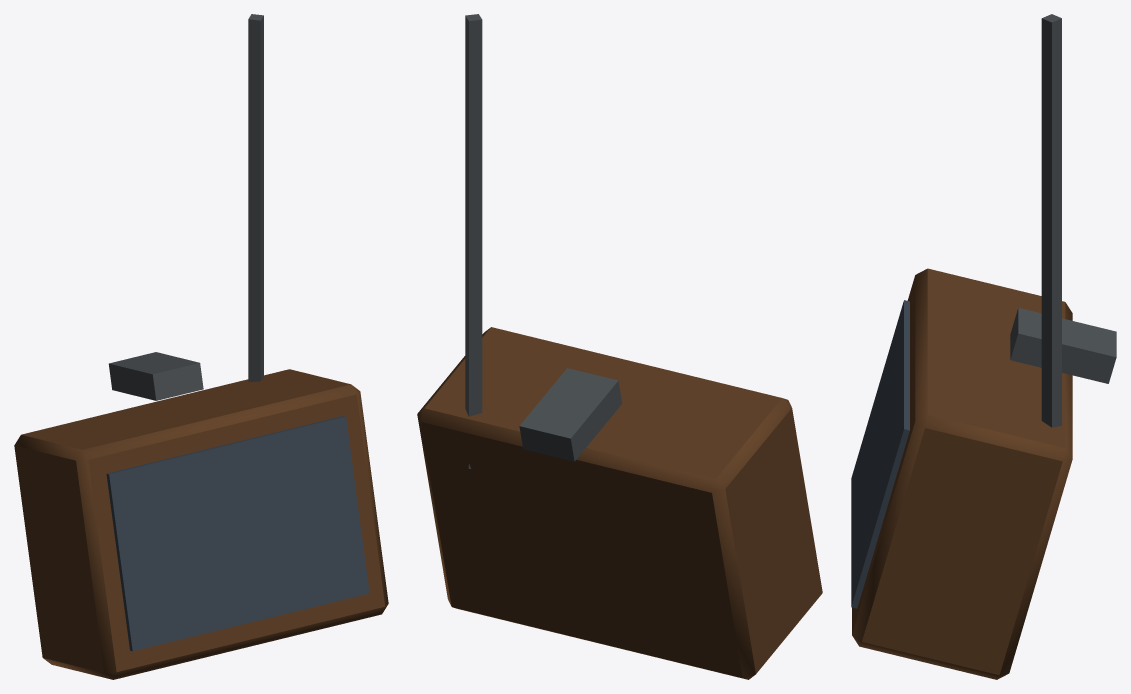
File: wall_speaker.glb
3 renders of one model, left to right at view 1: azimuth 30°, elevation 25°; view 2: azimuth 150°, elevation 25°; view 3: azimuth 270°, elevation 25°, orthographic. The views are drawn at different scales.
Parts seen in each view (by area): view 1: Speaker; view 2: Speaker; view 3: Speaker.
Boxes of the visible parts, bbox=[...] form: Speaker: bbox=[14, 14, 388, 679]; Speaker: bbox=[417, 14, 822, 679]; Speaker: bbox=[851, 14, 1116, 679].
Size of the model in its own units: 0.36 by 0.6937 by 0.2605.
